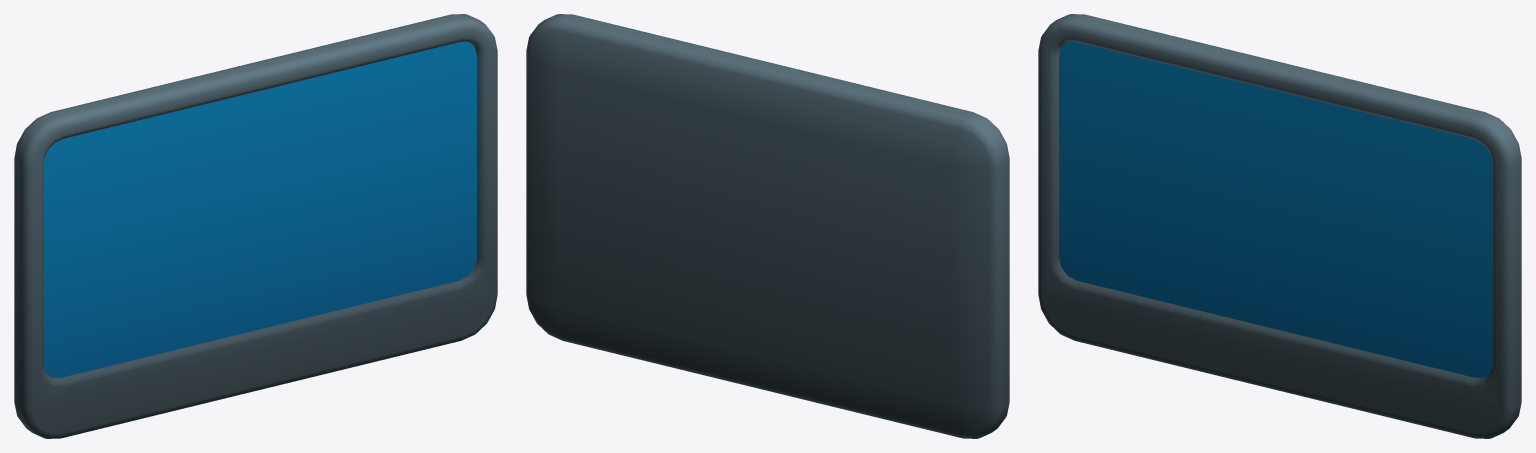
The picture shows the model from 3 angles, left to right: view 1: azimuth 30°, elevation 25°; view 2: azimuth 150°, elevation 25°; view 3: azimuth 330°, elevation 25°; orthographic projection.
Visible parts, largest first — view 1: TV_01; view 2: TV_01; view 3: TV_01.
Part boxes in pixels (x1=…): TV_01: x1=14, y1=14, x2=497, y2=438; TV_01: x1=526, y1=14, x2=1009, y2=438; TV_01: x1=1038, y1=14, x2=1521, y2=438.
Size of the model in its own units: 0.93 by 0.6 by 0.0713.
1 material, 1 textured.
